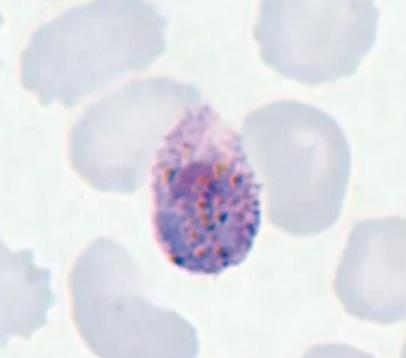Infected: (153, 94, 260, 275)
Uninfected: (17, 2, 164, 107), (65, 240, 194, 358), (241, 98, 350, 237), (65, 77, 195, 193), (254, 0, 380, 87), (329, 214, 405, 322), (379, 76, 380, 77)
